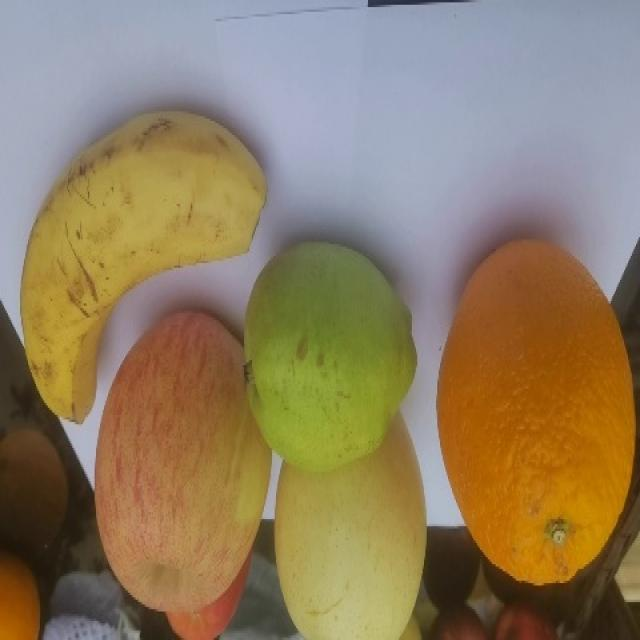Apple: (93, 307, 271, 612)
Banana: (18, 108, 267, 424)
Orange: (435, 237, 636, 585)
